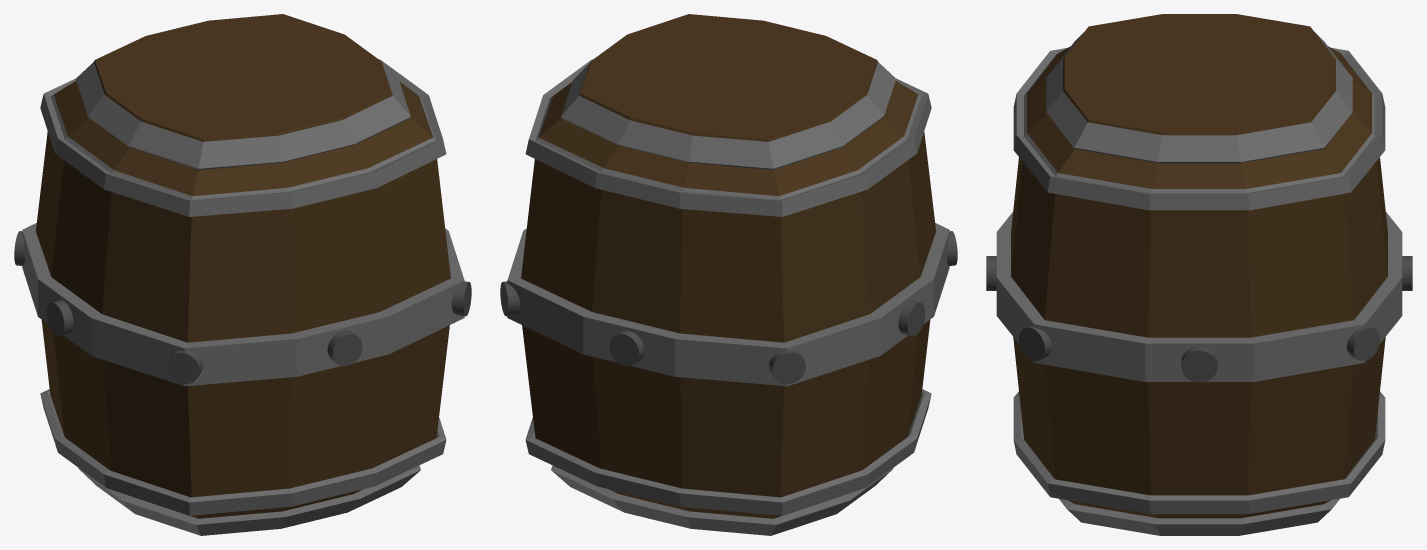
The model's file is barrel_closed.fbx.
The picture shows the model from 3 angles, left to right: view 1: azimuth 30°, elevation 25°; view 2: azimuth 150°, elevation 25°; view 3: azimuth 270°, elevation 25°; orthographic projection.
Parts seen in each view (by area): view 1: BARREL_CLOSED; view 2: BARREL_CLOSED; view 3: BARREL_CLOSED.
Part boxes in pixels (bbox=[...]): BARREL_CLOSED: bbox=[14, 14, 471, 535]; BARREL_CLOSED: bbox=[500, 14, 957, 535]; BARREL_CLOSED: bbox=[986, 14, 1412, 535].
Bounding box in the file's own units: 312 × 313 × 301.
